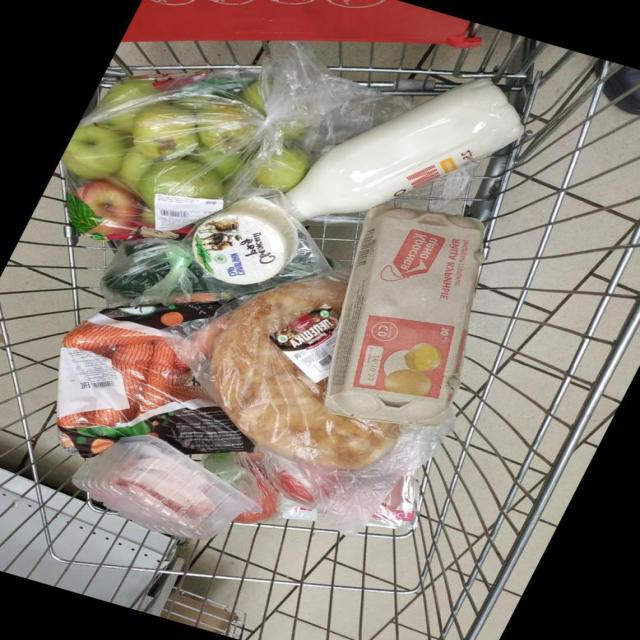apple: (144, 75, 415, 230), (71, 111, 223, 337), (93, 76, 282, 235), (96, 47, 294, 183), (81, 73, 218, 257), (118, 45, 359, 144), (56, 85, 175, 265), (80, 47, 275, 156), (67, 77, 196, 212), (76, 50, 212, 164), (46, 87, 120, 280), (60, 35, 160, 139)
carrot: (81, 166, 226, 536), (42, 210, 154, 636), (54, 172, 168, 541), (25, 211, 94, 639), (41, 161, 110, 492)
cheese: (116, 100, 315, 324)
cucumber: (100, 133, 283, 407)
egg: (188, 98, 551, 319)
milk: (169, 69, 477, 238)
tomato: (132, 232, 417, 640), (127, 248, 388, 640)
